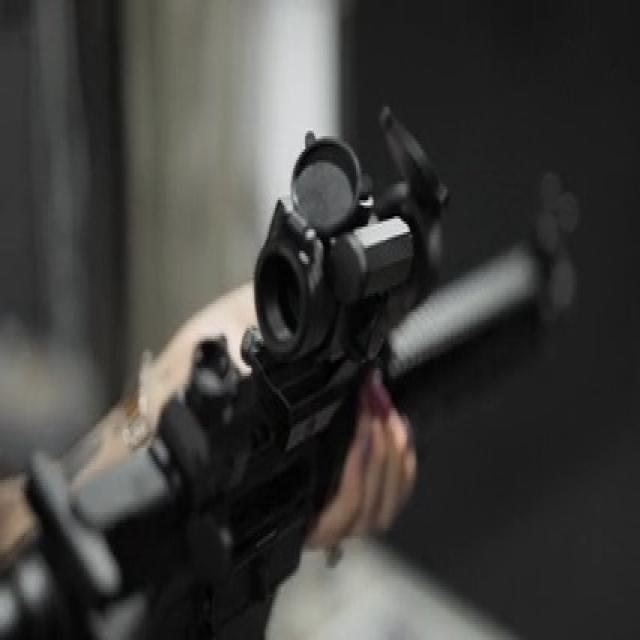Gun_Holder: (19, 103, 594, 640)
